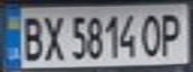1: (103, 11, 121, 58)
4: (118, 10, 142, 58)
5: (66, 11, 87, 61)
8: (84, 11, 106, 61)
B: (15, 11, 45, 62)
O: (139, 10, 166, 58)
P: (157, 9, 187, 57)
X: (39, 11, 66, 62)
